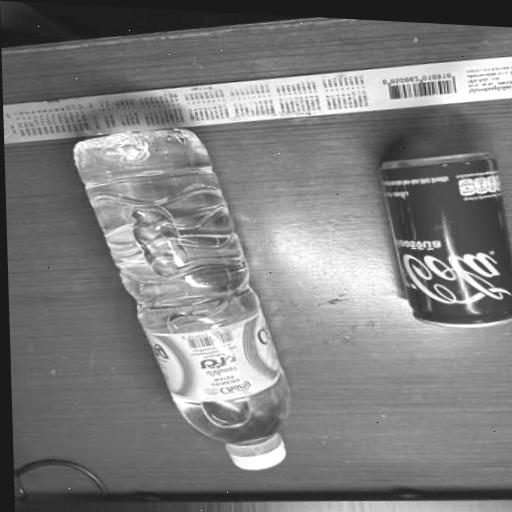bottle: (42, 98, 330, 491)
canned: (361, 129, 512, 343)
